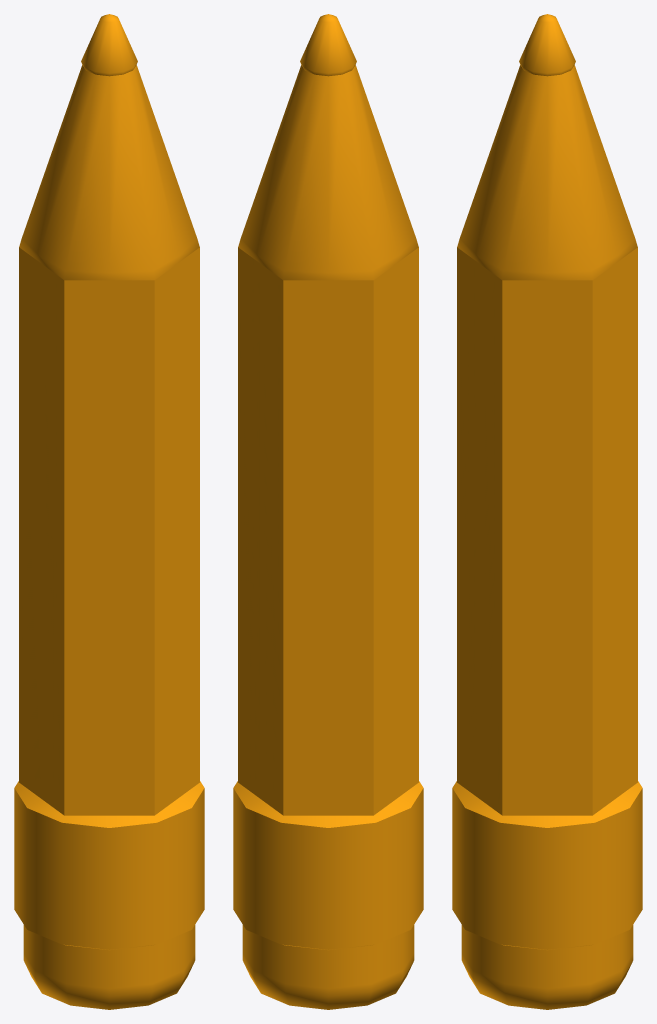
The model's file is Pencil.obj.
3 views of the same model, side by side, from view 1: azimuth 30°, elevation 25°; view 2: azimuth 150°, elevation 25°; view 3: azimuth 270°, elevation 25° (orthographic).
Visible parts, largest first — view 1: Pencil; view 2: Pencil; view 3: Pencil.
Part boxes in pixels (x1,y1,x2,y2): Pencil: (14, 14, 204, 1009); Pencil: (233, 14, 423, 1009); Pencil: (452, 14, 642, 1009).
Size of the model in its own units: 0.1951 by 1.1 by 0.1951.
